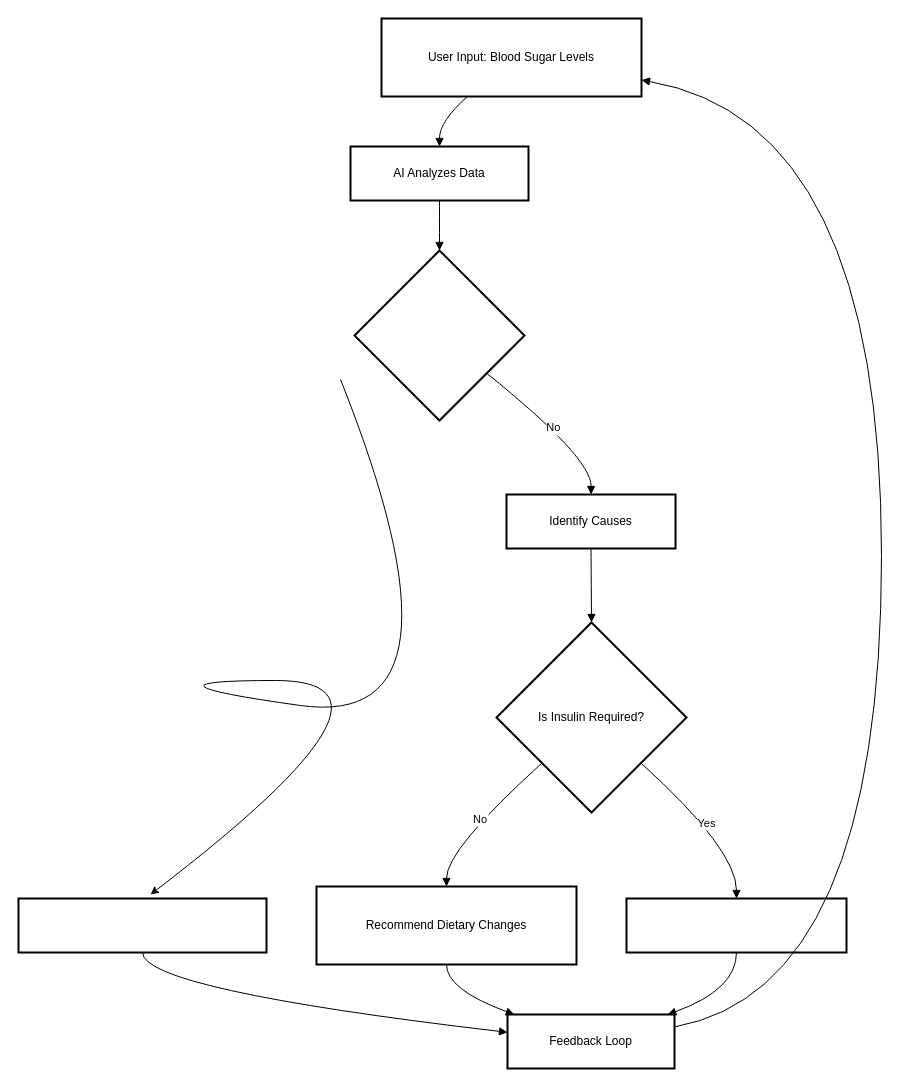
This 899x1086 diagram has some shape labels left out. Here are the shapes that lost their labels. From the top down, the centre of each, then its label:
At (x=439, y=335): "Is Level Normal?".
At (x=142, y=925): "Provide Recommendations".
At (x=736, y=925): "Suggest Insulin Dosage".
